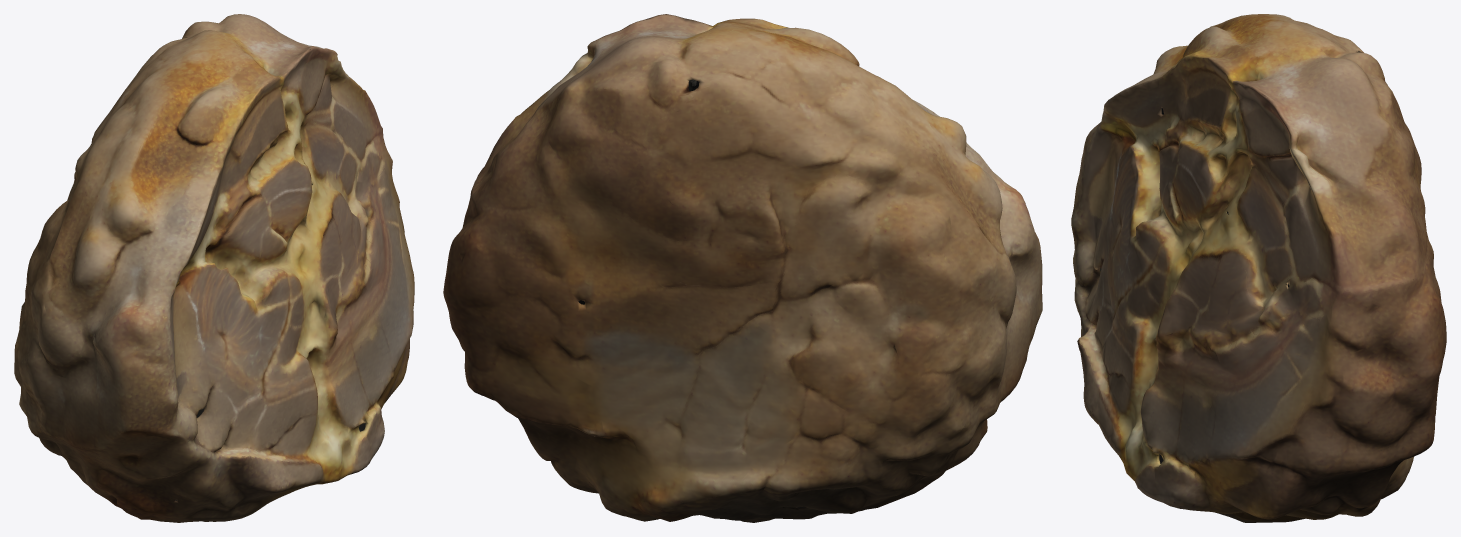
3 renders of one model, left to right at view 1: azimuth 30°, elevation 25°; view 2: azimuth 150°, elevation 25°; view 3: azimuth 270°, elevation 25°, orthographic. The views are drawn at different scales.
Parts seen in each view (by area): view 1: world; view 2: world; view 3: world.
Boxes of the visible parts, bbox=[...] form: world: bbox=[14, 14, 414, 522]; world: bbox=[443, 14, 1042, 522]; world: bbox=[1071, 14, 1446, 522].
Size of the model in its own units: 0.18 by 0.1763 by 0.1304.
1 material, 1 textured.
